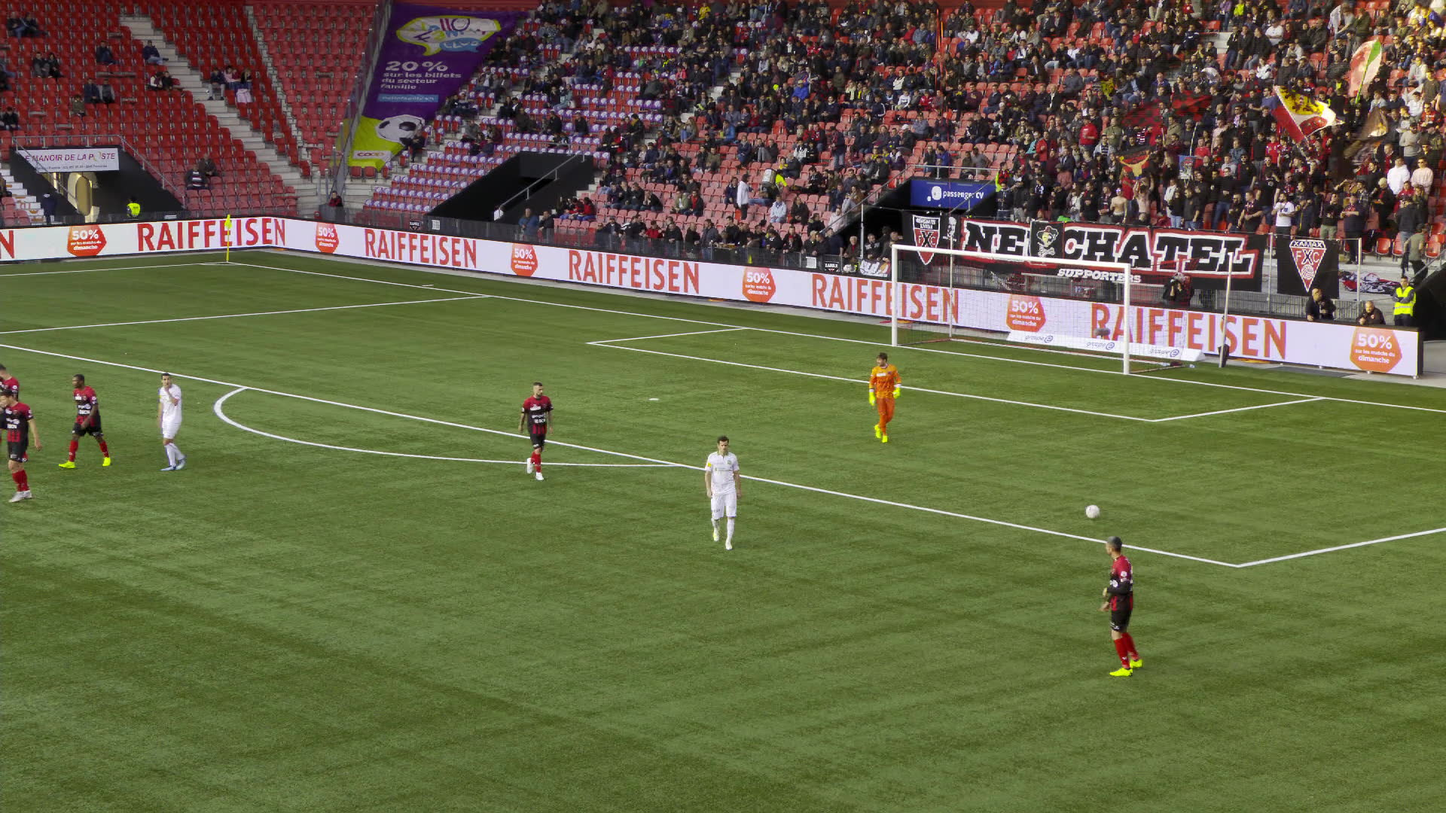ball: (1089, 510, 1103, 524)
player: (1092, 536, 1146, 673), (0, 390, 42, 502), (61, 372, 107, 467), (154, 374, 197, 472), (703, 437, 740, 550), (520, 379, 554, 478), (868, 352, 902, 443), (0, 366, 26, 461)
